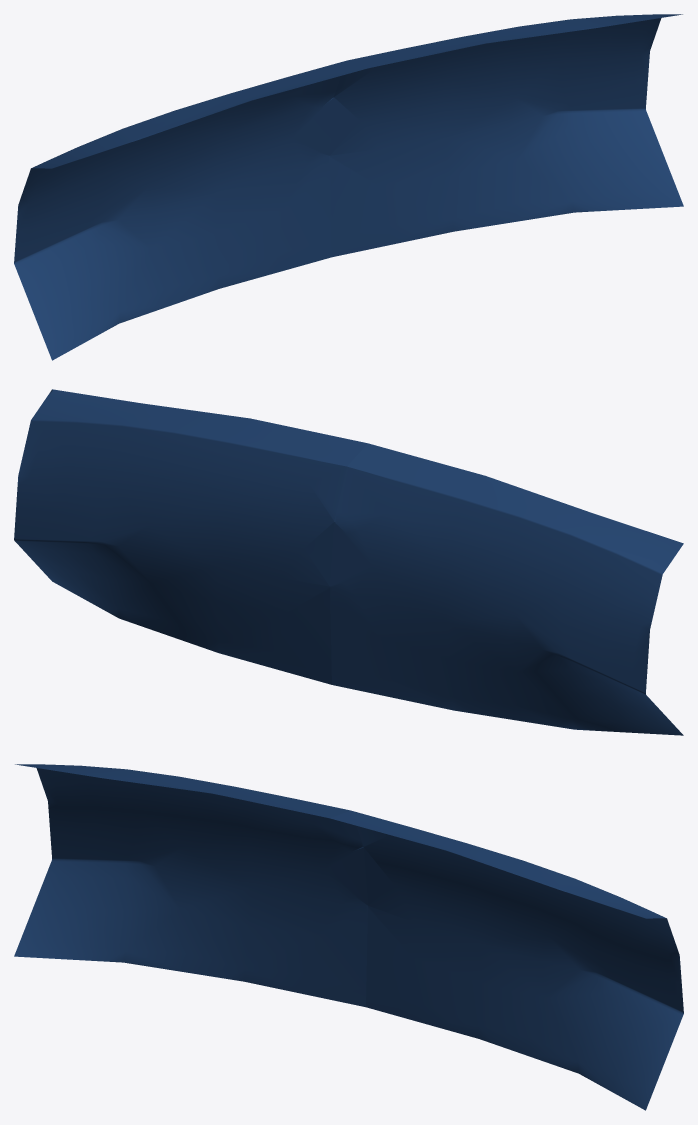
The model's file is GEO_Bumper_Front.glb.
3 views of the same model, one above another, from view 1: azimuth 30°, elevation 25°; view 2: azimuth 150°, elevation 25°; view 3: azimuth 330°, elevation 25° (orthographic).
Parts seen in each view (by area): view 1: GEO_Bumper_Front; view 2: GEO_Bumper_Front; view 3: GEO_Bumper_Front.
Part boxes in pixels (x1,y1,x2,y2): GEO_Bumper_Front: (14,14,683,360); GEO_Bumper_Front: (14,389,683,735); GEO_Bumper_Front: (14,764,683,1110).
Bounding box in the file's own units: 1.72 × 0.56 × 0.18.
